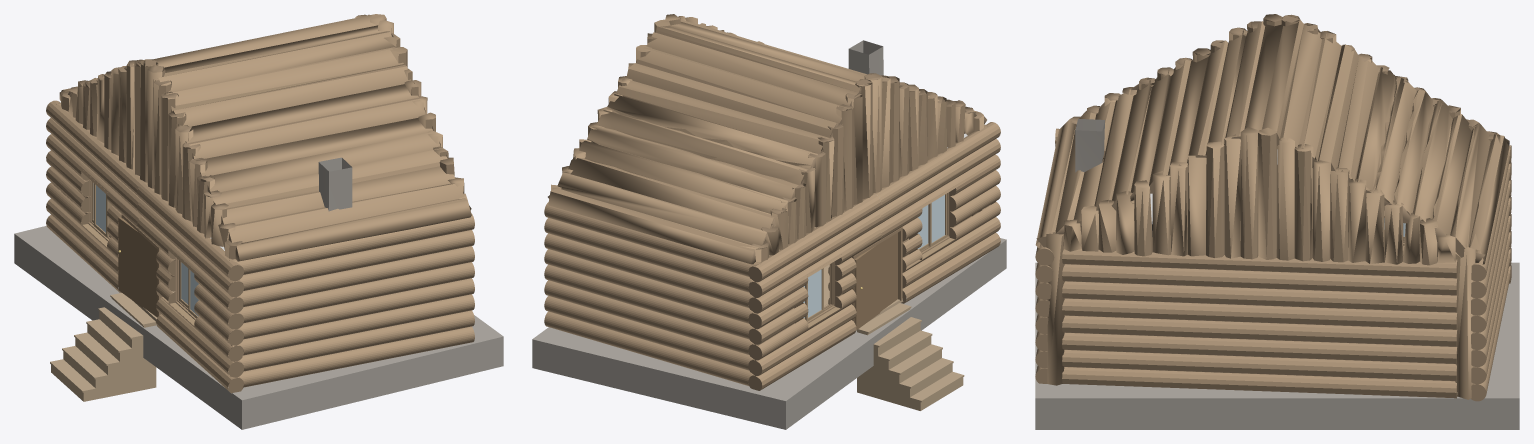
Rendered from village-hut.glb.
3 views of the same model, side by side, from view 1: azimuth 30°, elevation 25°; view 2: azimuth 150°, elevation 25°; view 3: azimuth 270°, elevation 25° (orthographic). The views are drawn at different scales.
Visible parts, largest first — view 1: roof, side wall1, front wall, FloorFoundation, Stairs, Door_Hut, fireplace, Window.L; view 2: roof, front wall, side wall 2, FloorFoundation, Stairs, Door_Hut, fireplace, Window.L.001, Window.L, DoorFrame; view 3: roof, back wall, FloorFoundation, side wall 2, side wall1, fireplace, front wall.
Part boxes in pixels (left/top/right/bottom): roof: left=59, top=14, right=471, bottom=261; side wall1: left=228, top=213, right=474, bottom=387; front wall: left=46, top=100, right=243, bottom=393; FloorFoundation: left=14, top=226, right=503, bottom=429; Stairs: left=50, top=293, right=156, bottom=401; Door_Hut: left=118, top=217, right=162, bottom=317; fireplace: left=318, top=157, right=352, bottom=211; Window.L: left=94, top=183, right=108, bottom=237; roof: left=548, top=14, right=986, bottom=341; front wall: left=748, top=122, right=1000, bottom=390; side wall 2: left=544, top=202, right=763, bottom=385; FloorFoundation: left=532, top=238, right=1006, bottom=429; Stairs: left=857, top=303, right=964, bottom=410; Door_Hut: left=854, top=232, right=897, bottom=329; fireplace: left=848, top=40, right=883, bottom=75; Window.L.001: left=928, top=193, right=947, bottom=247; Window.L: left=805, top=268, right=823, bottom=321; DoorFrame: left=851, top=227, right=902, bottom=321; roof: left=1035, top=14, right=1509, bottom=399; back wall: left=1062, top=249, right=1458, bottom=398; FloorFoundation: left=1035, top=262, right=1519, bottom=429; side wall 2: left=1471, top=153, right=1510, bottom=401; side wall1: left=1035, top=234, right=1054, bottom=383; fireplace: left=1075, top=119, right=1104, bottom=172; front wall: left=1055, top=128, right=1511, bottom=283.
Size of the model in its own units: 8.45 by 7.59 by 10.26.
